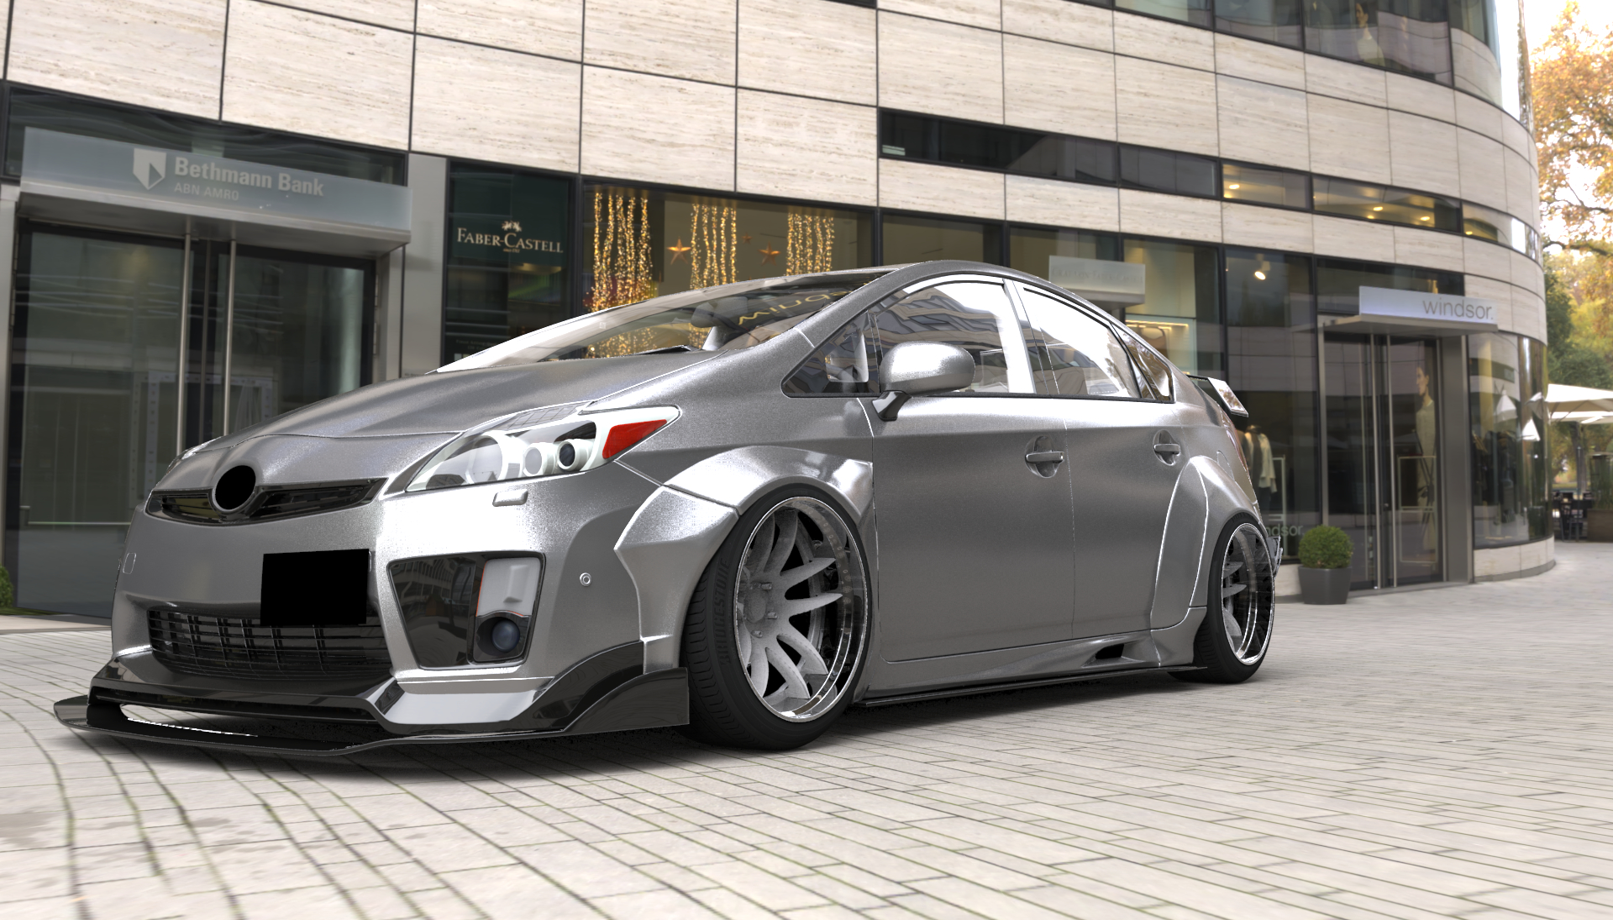hatch: (1211, 446, 1236, 485)
